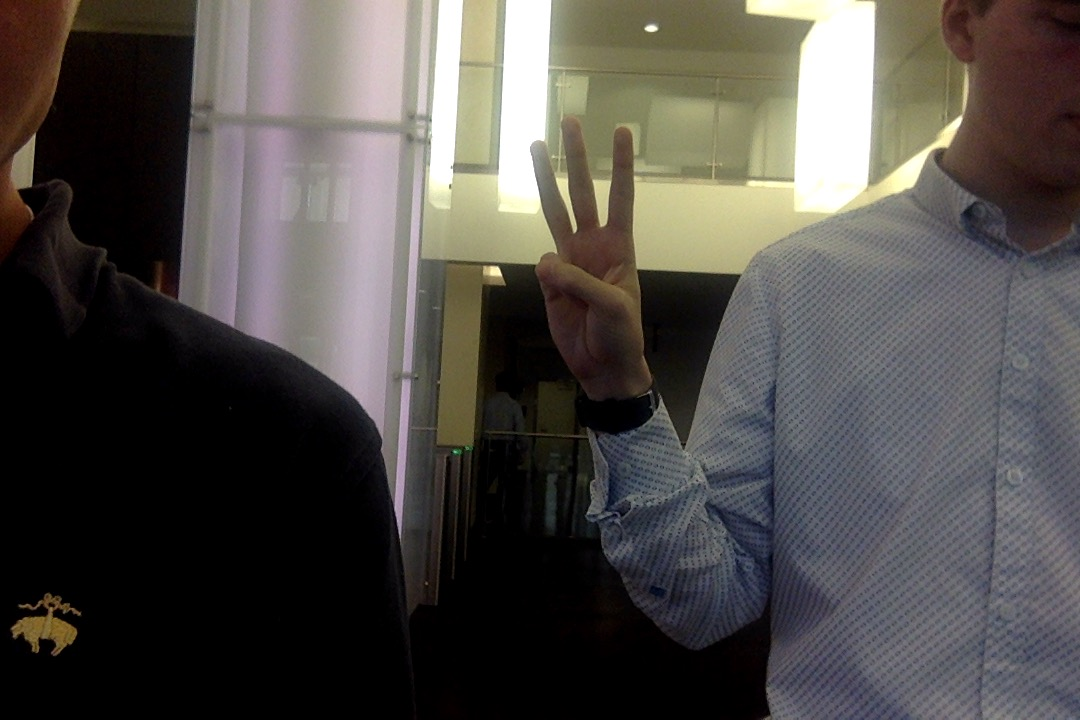w: (519, 113, 652, 375)
